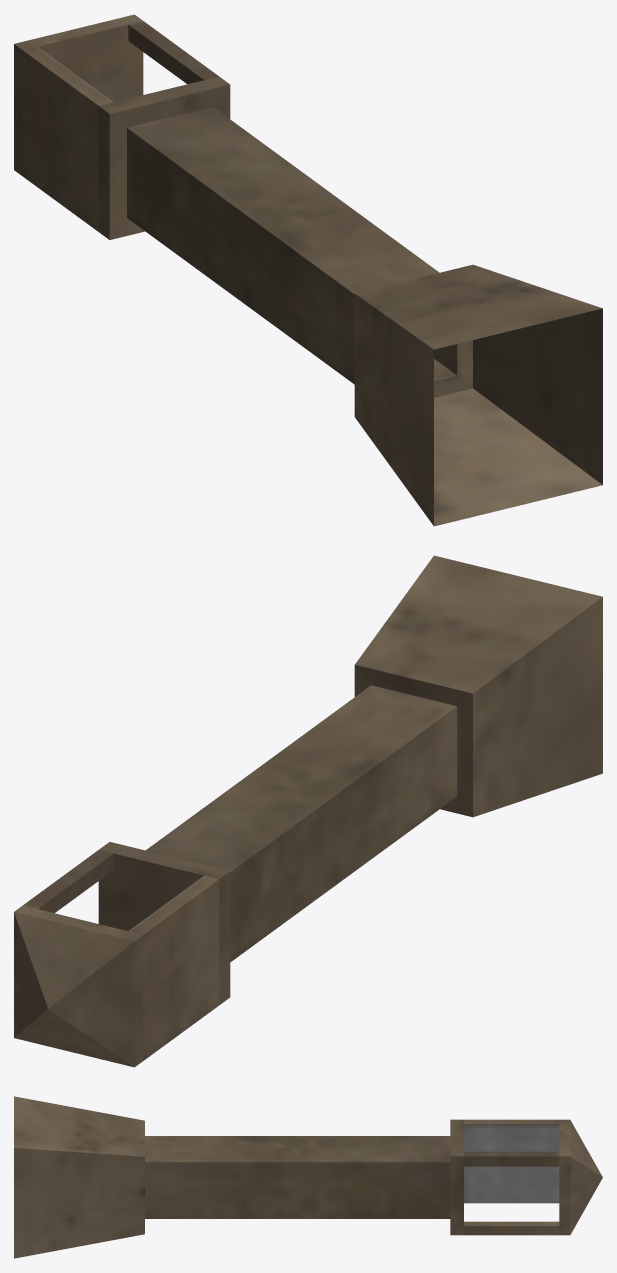
Rendered from WayshrineFix.fbx.
3 views of the same model, one above another, from view 1: azimuth 30°, elevation 25°; view 2: azimuth 150°, elevation 25°; view 3: azimuth 270°, elevation 25° (orthographic). The views are drawn at different scales.
Visible parts, largest first — view 1: Wayshrine; view 2: Wayshrine; view 3: Wayshrine.
Part boxes in pixels (<box>): Wayshrine: <box>14,14,602,526</box>; Wayshrine: <box>14,555,602,1067</box>; Wayshrine: <box>14,1096,602,1258</box>.
Bounding box in the file's own units: 35.38 × 35.38 × 171.
